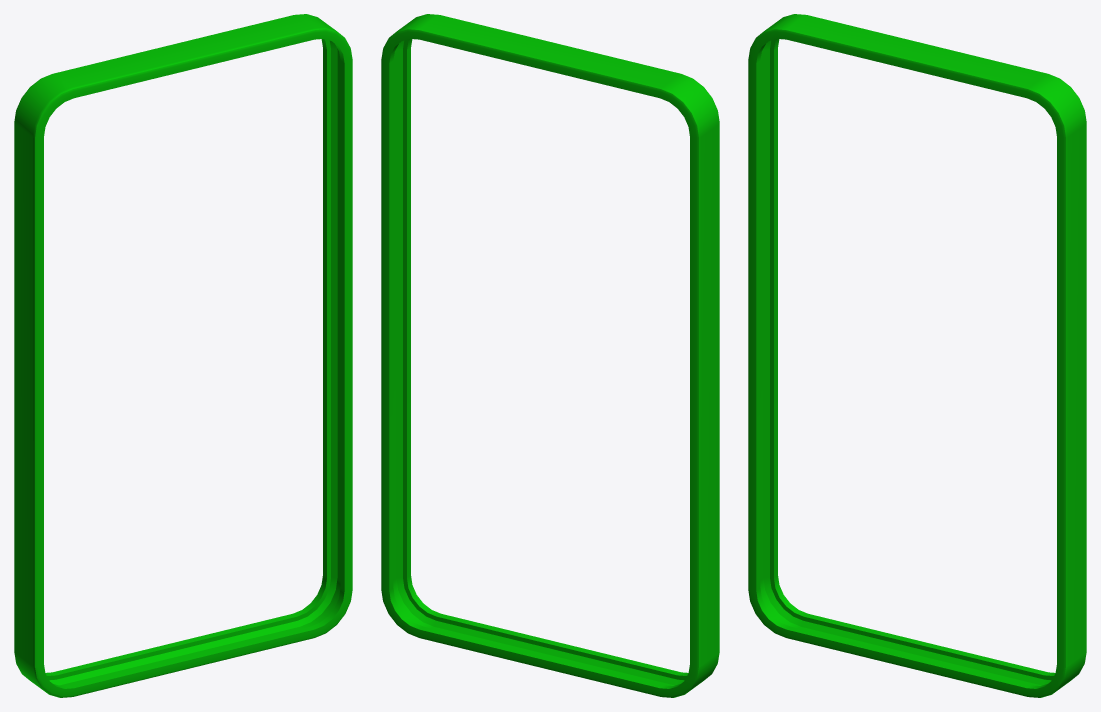
The model's file is BedRoom_low.fbx.
3 views of the same model, side by side, from view 1: azimuth 30°, elevation 25°; view 2: azimuth 150°, elevation 25°; view 3: azimuth 330°, elevation 25° (orthographic).
Parts seen in each view (by area): view 1: polySurface7804; view 2: polySurface7804; view 3: polySurface7804.
Part boxes in pixels (<box>): polySurface7804: <box>14,14,352,697</box>; polySurface7804: <box>381,14,719,697</box>; polySurface7804: <box>748,14,1086,697</box>.
Size of the model in its own units: 170 by 310 by 20.
